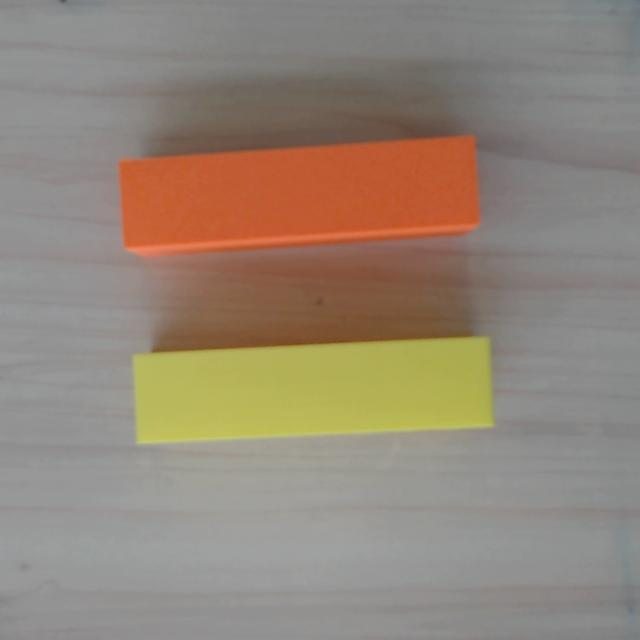Balok-Jingga-1002525: (118, 134, 481, 257)
Balok-Kuning-1002525: (132, 337, 494, 444)
